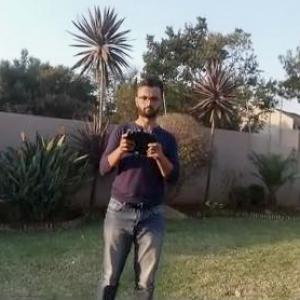follow: (90, 69, 184, 299)
